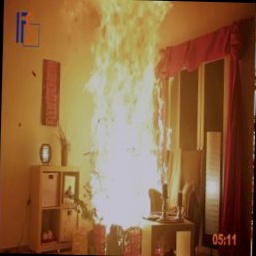fire: (58, 0, 201, 241)
